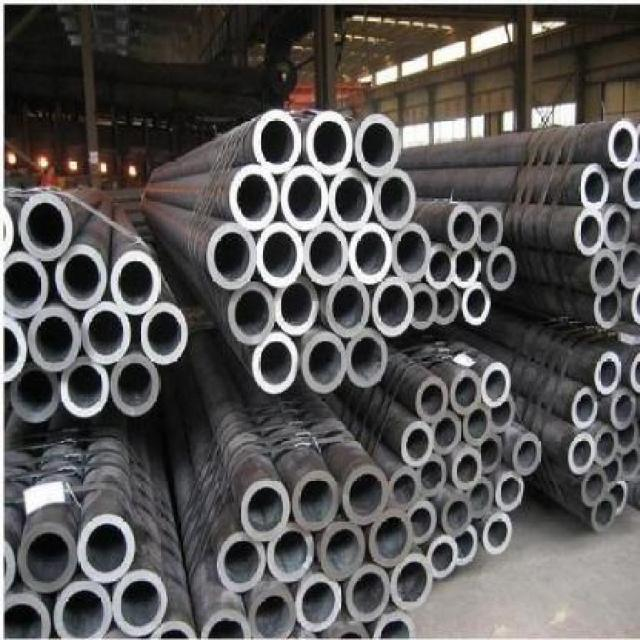pipe: (16, 521, 81, 597), (76, 512, 138, 586), (15, 189, 73, 263), (204, 221, 259, 294), (113, 569, 169, 640), (28, 306, 82, 377), (228, 162, 281, 233), (110, 249, 165, 317), (239, 476, 293, 545), (53, 578, 113, 640), (54, 244, 110, 309), (78, 302, 134, 367), (255, 219, 304, 293), (56, 356, 110, 422), (252, 107, 303, 176), (305, 110, 356, 179), (226, 280, 277, 349), (109, 353, 162, 419), (353, 111, 404, 179), (276, 163, 327, 231), (137, 303, 192, 366), (215, 532, 268, 597), (249, 332, 302, 397), (1, 250, 47, 323), (321, 276, 374, 339), (290, 470, 343, 533), (300, 222, 351, 287), (271, 277, 324, 339), (266, 523, 317, 586), (316, 520, 367, 583), (300, 330, 348, 396), (323, 273, 371, 339), (339, 465, 390, 527), (371, 167, 419, 232), (343, 563, 392, 626), (367, 507, 416, 570), (9, 365, 60, 425), (348, 221, 394, 287), (328, 169, 374, 234), (295, 573, 343, 635), (387, 554, 436, 614), (343, 329, 389, 391), (371, 277, 416, 339), (390, 224, 433, 286), (247, 586, 296, 640), (4, 591, 53, 640), (1, 316, 29, 387), (199, 606, 253, 640), (446, 201, 479, 254), (578, 161, 611, 214), (607, 118, 640, 171), (571, 207, 604, 258), (387, 466, 421, 515), (425, 533, 459, 582), (479, 360, 513, 409), (399, 421, 433, 469), (414, 375, 448, 423), (449, 368, 483, 416), (461, 281, 494, 329), (485, 246, 519, 292), (482, 508, 513, 557), (475, 205, 506, 253), (406, 497, 437, 545), (460, 403, 493, 448), (591, 351, 624, 396), (426, 244, 457, 290), (602, 203, 631, 252), (591, 286, 624, 329), (450, 447, 483, 490), (566, 432, 597, 477), (609, 389, 640, 434), (590, 249, 619, 297), (409, 282, 437, 331), (431, 413, 462, 456), (372, 611, 417, 640), (416, 454, 445, 499), (569, 386, 598, 431), (442, 495, 473, 537), (433, 283, 461, 328), (452, 523, 480, 568), (492, 472, 525, 510), (512, 433, 541, 476), (487, 394, 518, 434), (580, 467, 609, 509), (592, 423, 620, 466), (615, 242, 640, 290), (479, 433, 505, 478), (590, 494, 619, 534), (452, 246, 480, 287), (469, 477, 495, 520), (621, 160, 640, 208), (615, 420, 640, 456), (618, 445, 640, 481), (612, 480, 628, 520)
